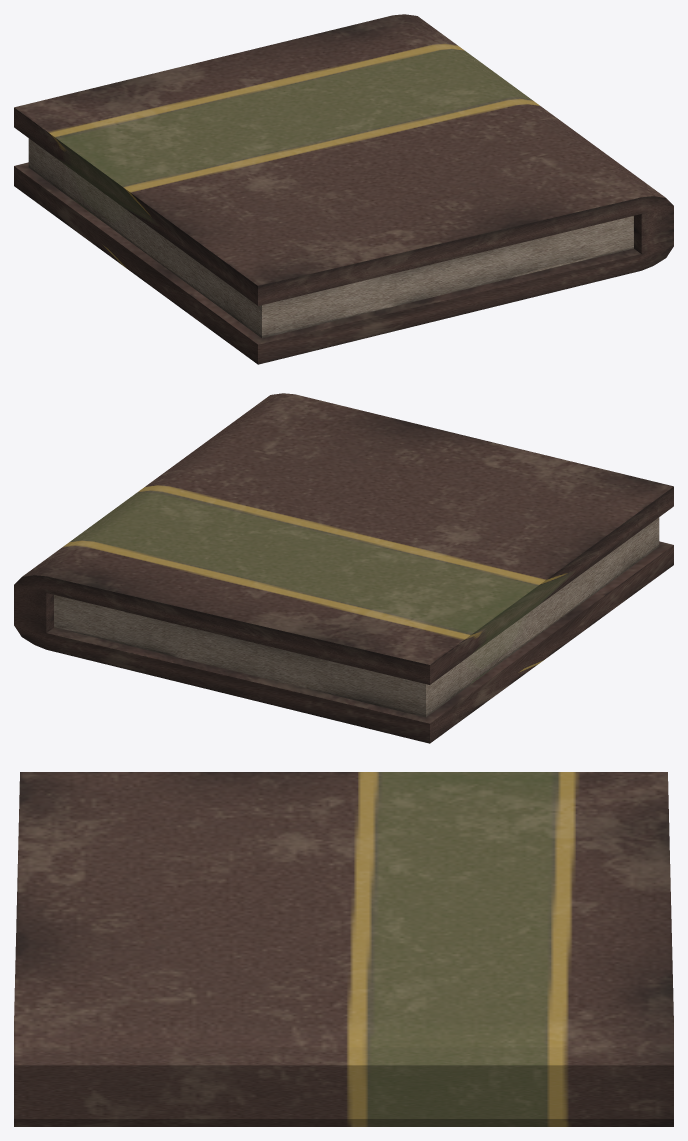
The model's file is Book_Regular.fbx.
The picture shows the model from 3 angles, top to bottom: view 1: azimuth 30°, elevation 25°; view 2: azimuth 150°, elevation 25°; view 3: azimuth 270°, elevation 25°; orthographic projection. The views are drawn at different scales.
Visible parts, largest first — view 1: Cube.002; view 2: Cube.002; view 3: Cube.002.
Part boxes in pixels (x1,y1,x2,y2): Cube.002: [14, 14, 673, 364]; Cube.002: [14, 393, 673, 743]; Cube.002: [14, 772, 673, 1126].
Bounding box in the file's own units: 1243 × 226 × 1294.
